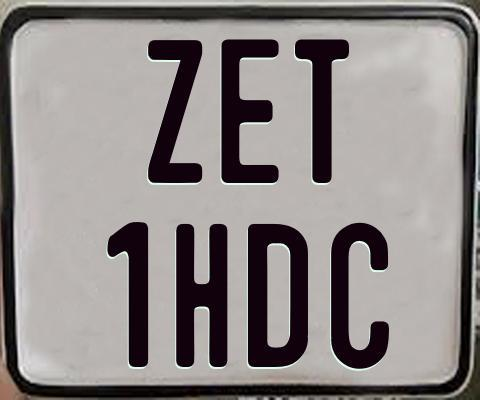1: (106, 221, 153, 370)
C: (331, 221, 389, 369)
D: (245, 223, 309, 370)
E: (221, 36, 282, 184)
H: (175, 222, 229, 369)
T: (292, 39, 351, 183)
Z: (148, 37, 206, 185)
